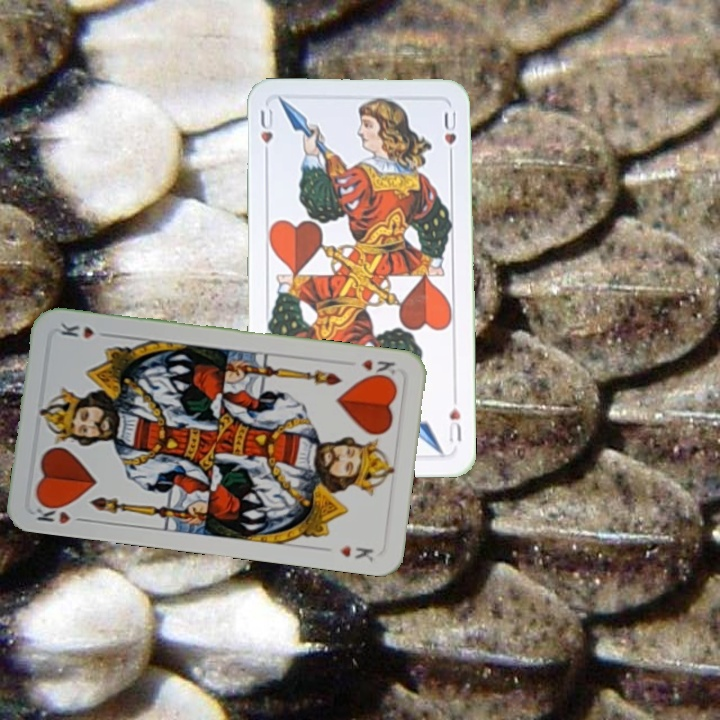HK: (32, 497, 90, 527), (357, 355, 398, 383)
HU: (256, 104, 276, 162), (444, 404, 465, 445)
